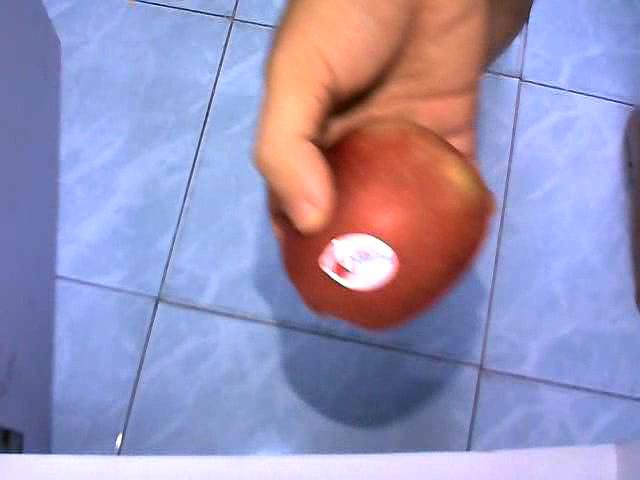apple: (278, 116, 496, 335)
